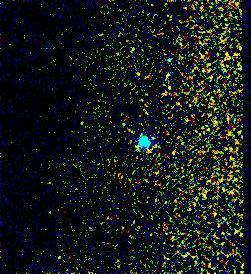star: (67, 110, 97, 140)
